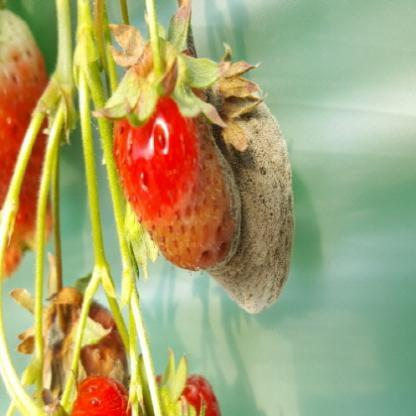Strawberry_Gray_Mold: (194, 69, 296, 312), (112, 86, 242, 273)
